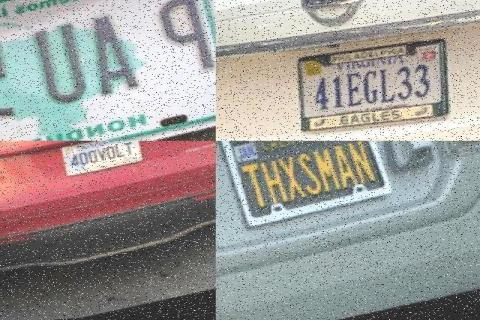LicensePlate: (0, 0, 216, 141), (216, 141, 411, 233), (298, 41, 454, 133), (64, 140, 147, 179)
